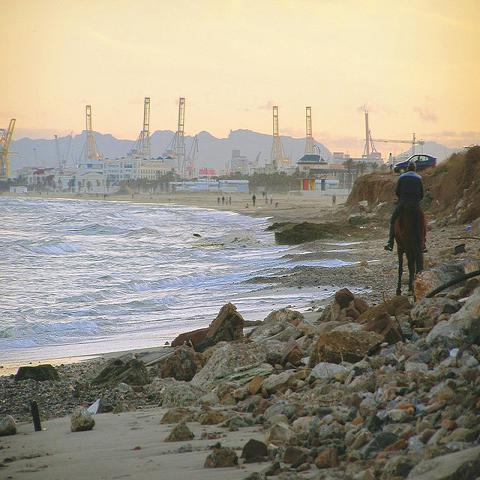car: (392, 152, 438, 176), (458, 146, 473, 152)
